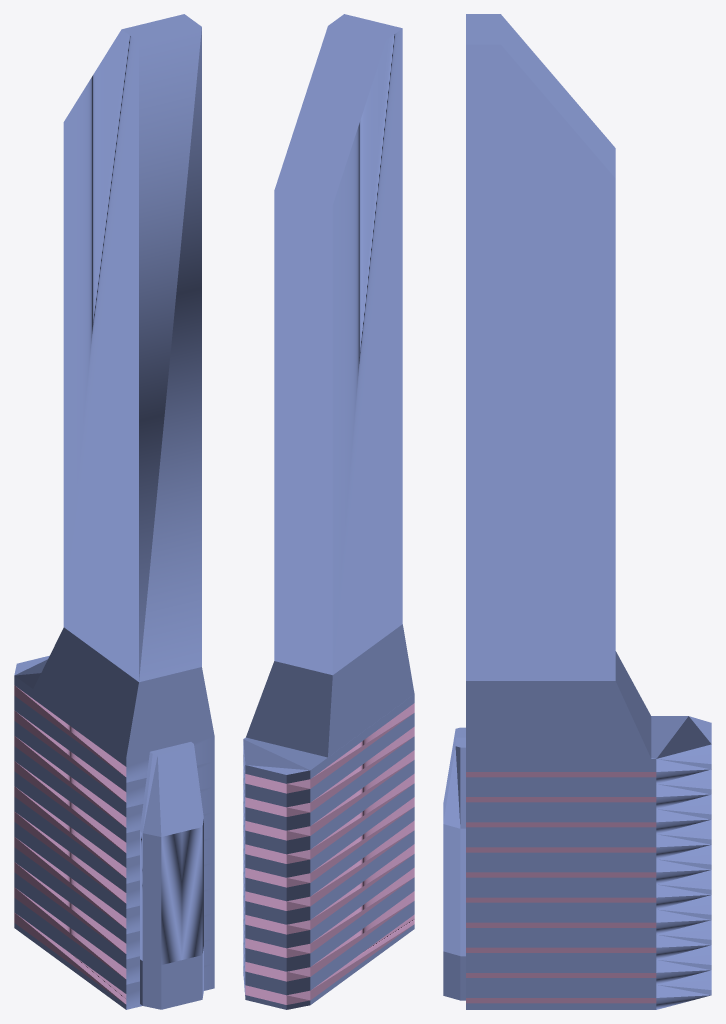
The model's file is ht_building_003_top_a.glb.
The picture shows the model from 3 angles, left to right: view 1: azimuth 30°, elevation 25°; view 2: azimuth 150°, elevation 25°; view 3: azimuth 270°, elevation 25°; orthographic projection. The views are drawn at different scales.
Size of the model in its own units: 22 by 229 by 58.17.
